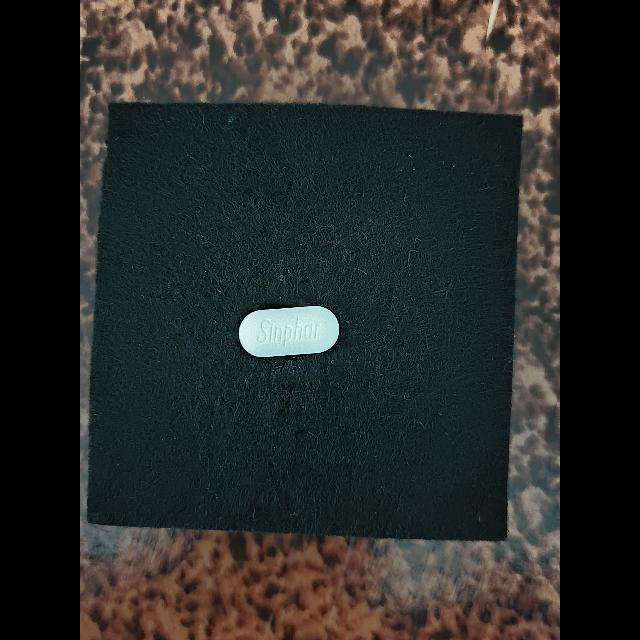Intact Pill: (239, 306, 339, 358)
